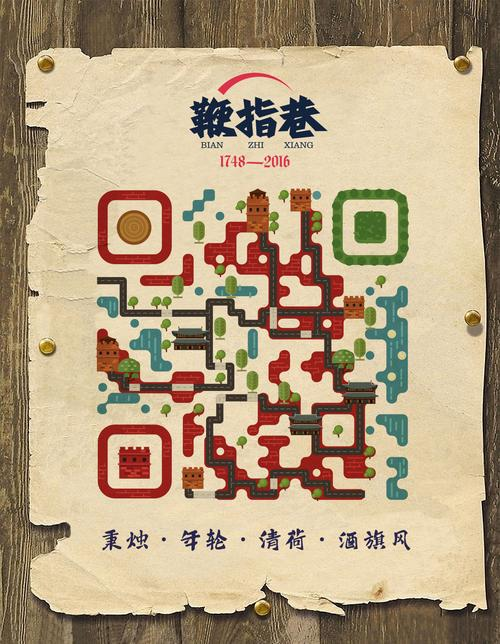QRCode: (84, 179, 422, 517)
